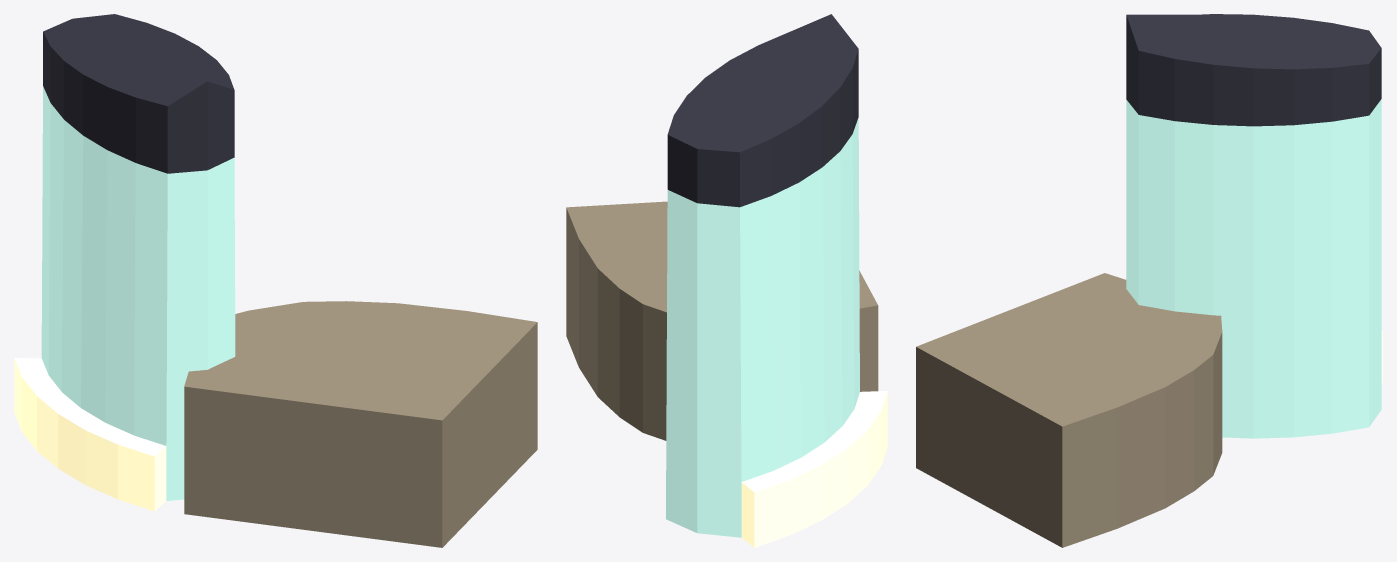
Rendered from arfa_technology_park_far.glb.
3 views of the same model, side by side, from view 1: azimuth 30°, elevation 25°; view 2: azimuth 150°, elevation 25°; view 3: azimuth 270°, elevation 25° (orthographic). The views are drawn at different scales.
Parts seen in each view (by area): view 1: m_arfa_podium, m_arfa_glass, m_arfa_louvre, m_arfa_rotunda_glass; view 2: m_arfa_glass, m_arfa_louvre, m_arfa_podium, m_arfa_rotunda_glass; view 3: m_arfa_glass, m_arfa_podium, m_arfa_louvre.
Boxes of the visible parts, x1,y1,x2,y2 form: m_arfa_podium: (184,301,537,547); m_arfa_glass: (41,86,235,500); m_arfa_louvre: (43,14,234,173); m_arfa_rotunda_glass: (14,358,166,511); m_arfa_glass: (666,118,859,537); m_arfa_louvre: (667,14,858,207); m_arfa_podium: (566,201,878,440); m_arfa_rotunda_glass: (741,391,887,547); m_arfa_glass: (1126,99,1381,438); m_arfa_podium: (916,273,1222,547); m_arfa_louvre: (1126,14,1381,126).
Bounding box in the file's own units: 101 × 106 × 113.
